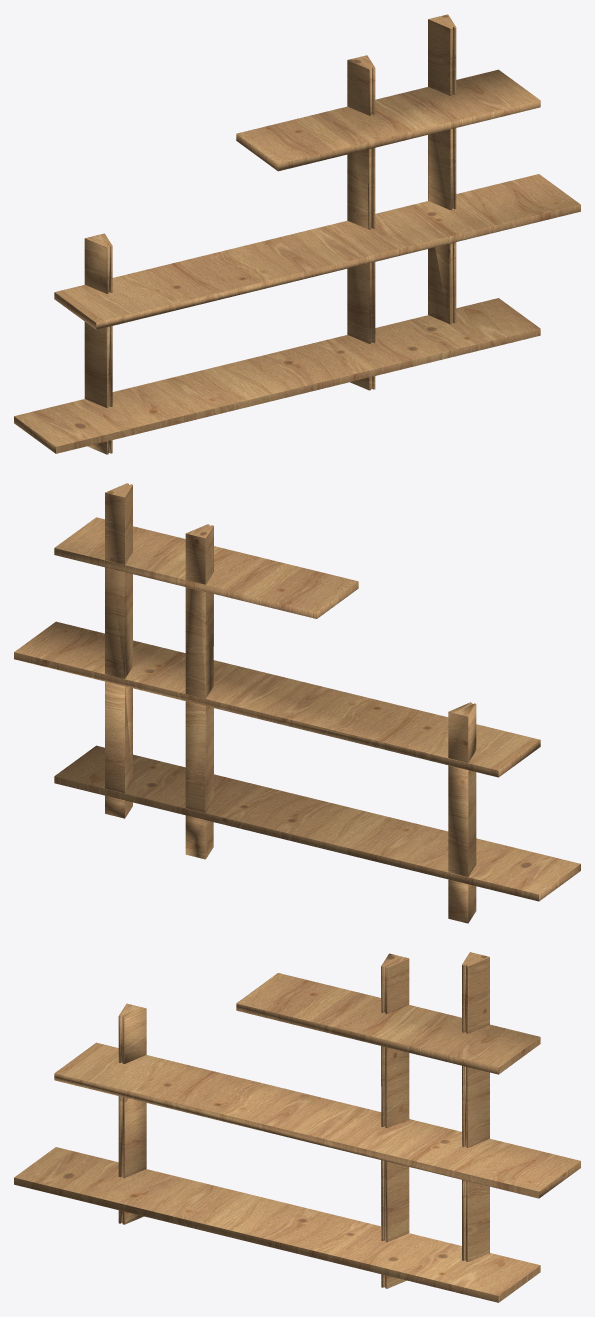
File: wall_shelf_minimalist_wooden_rack_tom_au.glb
3 views of the same model, one above another, from view 1: azimuth 30°, elevation 25°; view 2: azimuth 150°, elevation 25°; view 3: azimuth 330°, elevation 25° (orthographic).
Parts seen in each view (by area): view 1: Wall_Rack_wall_rack_wood_0; view 2: Wall_Rack_wall_rack_wood_0; view 3: Wall_Rack_wall_rack_wood_0.
Boxes of the visible parts, <box> form: Wall_Rack_wall_rack_wood_0: <box>14,14,580,454</box>; Wall_Rack_wall_rack_wood_0: <box>14,483,580,923</box>; Wall_Rack_wall_rack_wood_0: <box>14,952,580,1302</box>.
Bounding box in the file's own units: 1.3 × 0.8101 × 0.18.
Materials: 1 (1 with a texture image).
